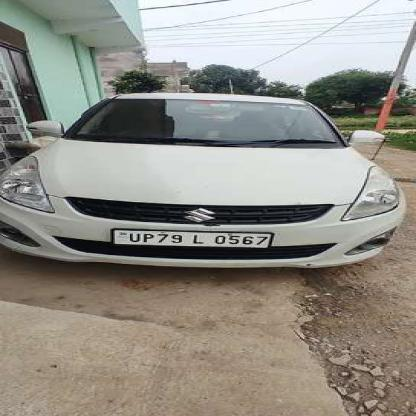license_plate: (112, 229, 268, 247)
